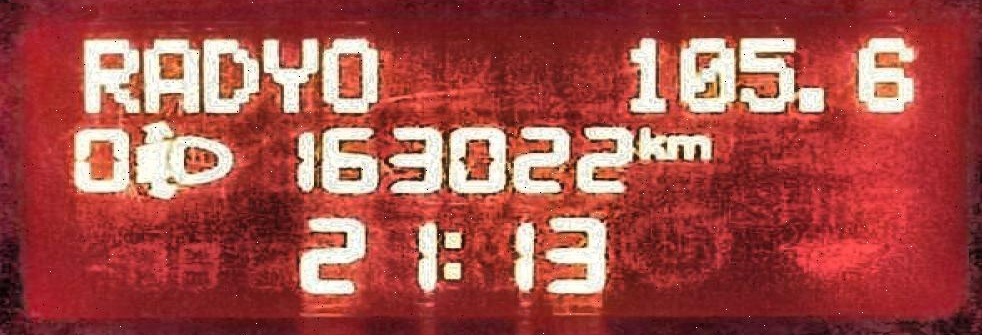-: (799, 82, 834, 122)
0: (670, 32, 732, 118), (64, 123, 135, 198), (442, 119, 507, 198)
1: (620, 27, 667, 118), (503, 215, 542, 294), (279, 125, 315, 194), (407, 215, 437, 294)
2: (290, 210, 369, 299), (572, 119, 633, 196), (507, 122, 568, 198)
3: (542, 211, 612, 299), (387, 119, 438, 198)
5: (735, 30, 799, 121)
6: (849, 30, 919, 115), (320, 123, 384, 198)
X: (312, 33, 385, 118), (74, 31, 139, 116), (137, 30, 200, 116), (199, 30, 260, 116), (259, 32, 315, 118), (437, 225, 468, 284), (664, 130, 714, 164), (629, 121, 665, 164)
